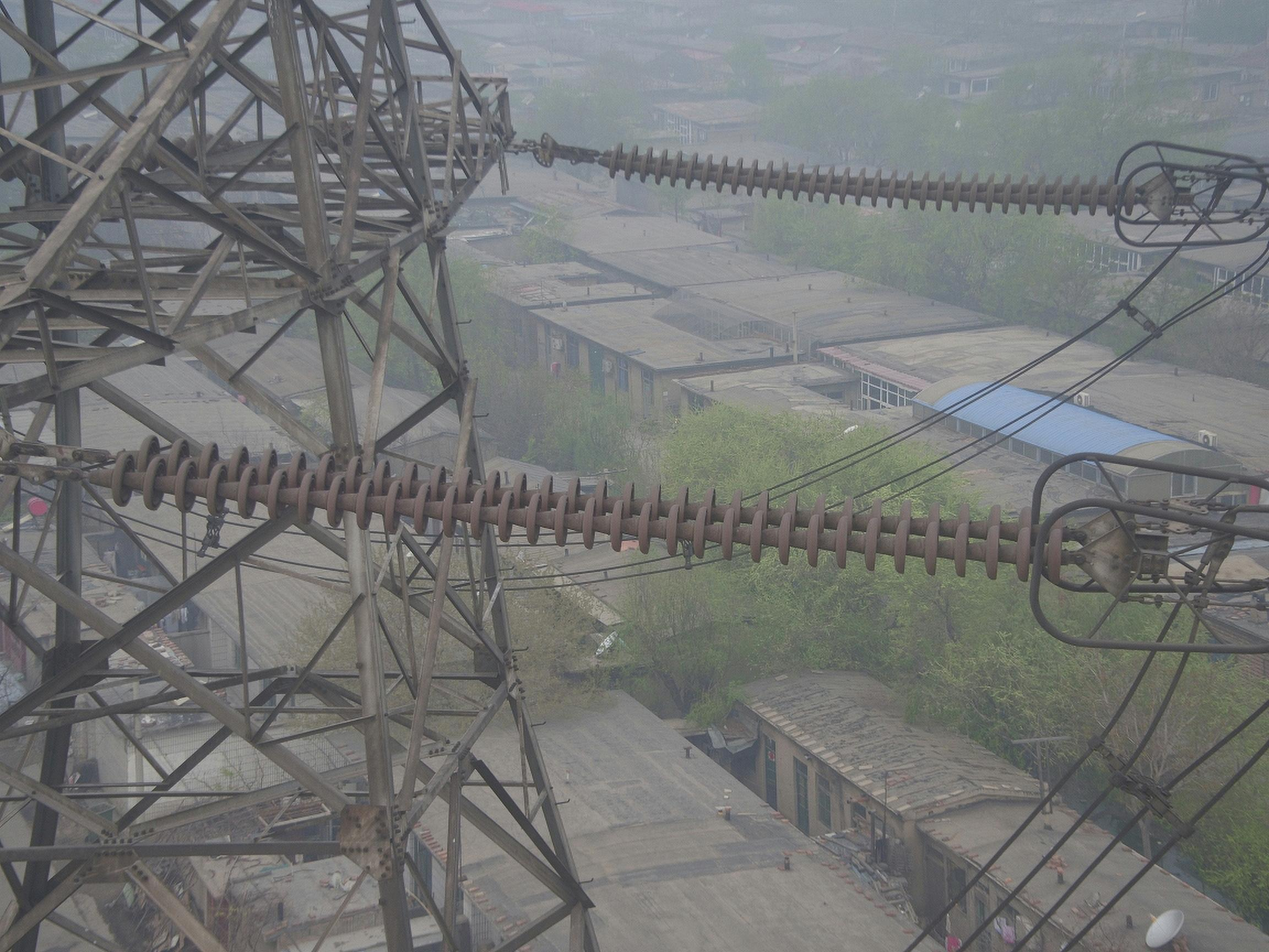insulator: (105, 431, 1069, 588), (603, 140, 1138, 219), (1, 127, 236, 186)
